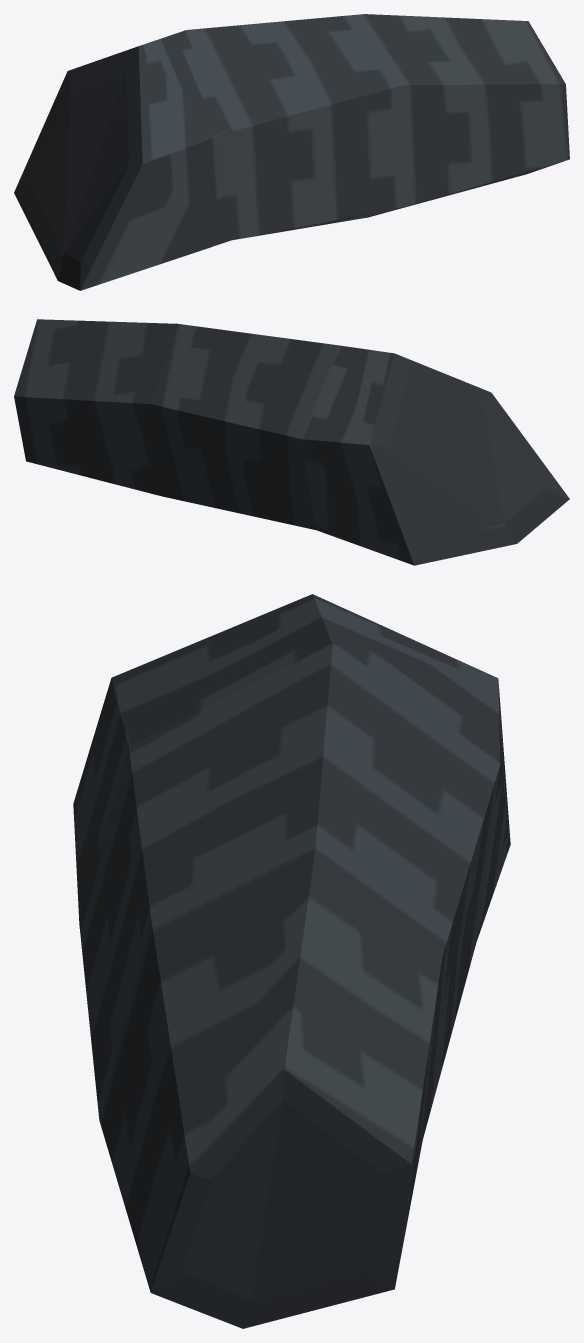
File: Chr_ArmUpperLeft_Female_19_Static.fbx
3 renders of one model, top to bottom at view 1: azimuth 30°, elevation 25°; view 2: azimuth 150°, elevation 25°; view 3: azimuth 270°, elevation 25°, orthographic. The views are drawn at different scales.
Visible parts, largest first — view 1: Chr_ArmUpperLeft_Female_19_Static; view 2: Chr_ArmUpperLeft_Female_19_Static; view 3: Chr_ArmUpperLeft_Female_19_Static.
Boxes of the visible parts, <box> form: Chr_ArmUpperLeft_Female_19_Static: <box>14,14,569,290</box>; Chr_ArmUpperLeft_Female_19_Static: <box>14,319,569,565</box>; Chr_ArmUpperLeft_Female_19_Static: <box>73,594,510,1328</box>.
Bounding box in the file's own units: 0.3535 × 0.1391 × 0.136.
